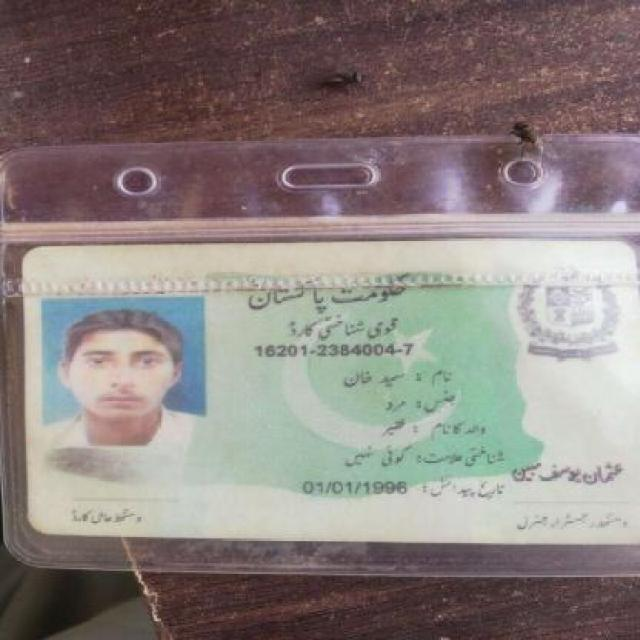Front: (14, 240, 631, 560)
